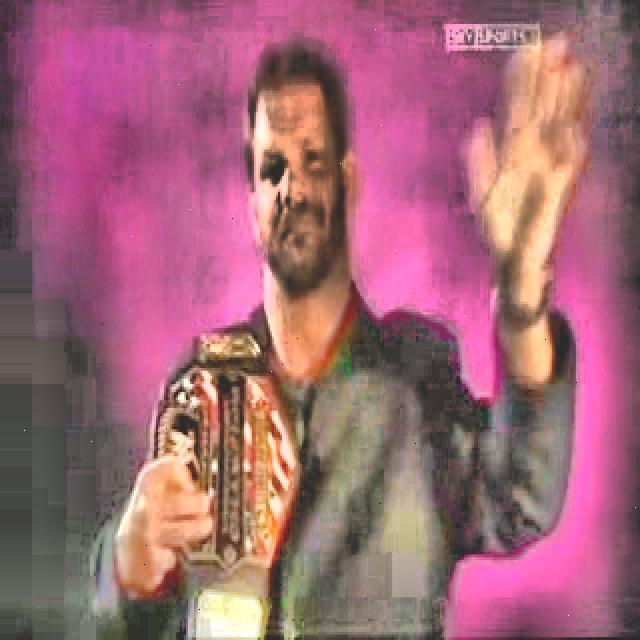L: (93, 34, 579, 638)
